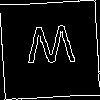W: (25, 25, 77, 74)
